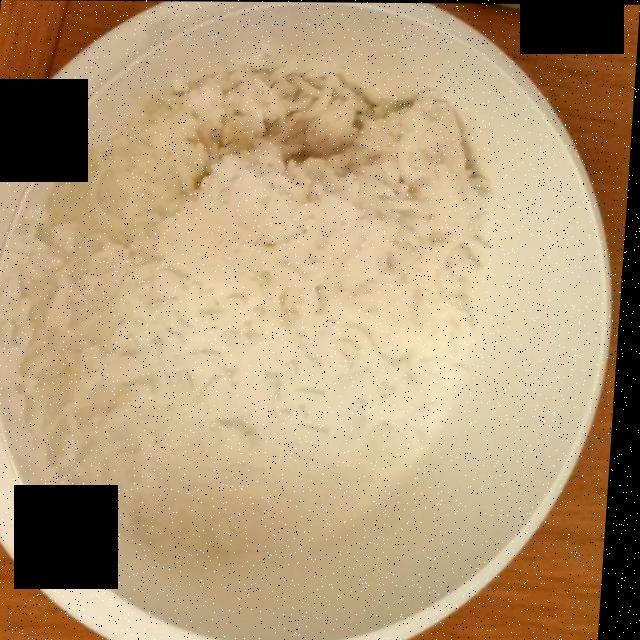rice: (0, 54, 480, 557)
